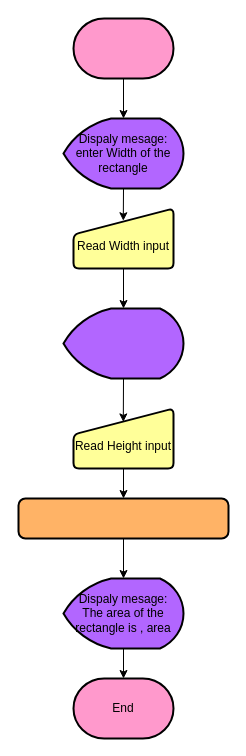
This 246x756 diagram has some shape labels left out. The shapes that lost their labels are listed below. From the top down, each one's centre as x and y in pixels, then its label:
pixel 123 48: Start
pixel 123 343: Dispaly mesage: enter Height of the rectangle
pixel 123 518: calculatr area: area = Width * Height
